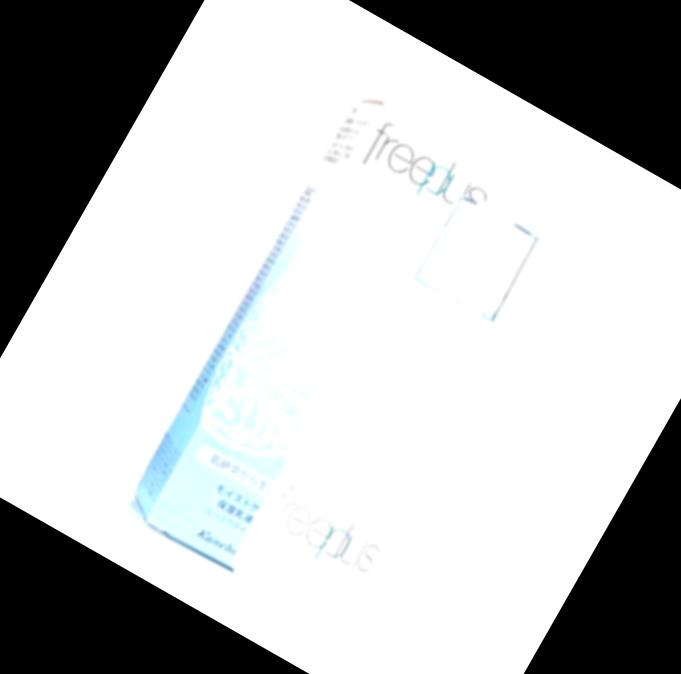cosmetic: (220, 179, 563, 640)
